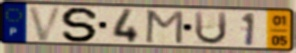1: (240, 11, 257, 47)
4: (110, 7, 141, 45)
M: (143, 9, 185, 46)
S: (60, 6, 102, 43)
U: (193, 10, 229, 47)
V: (26, 5, 66, 42)
